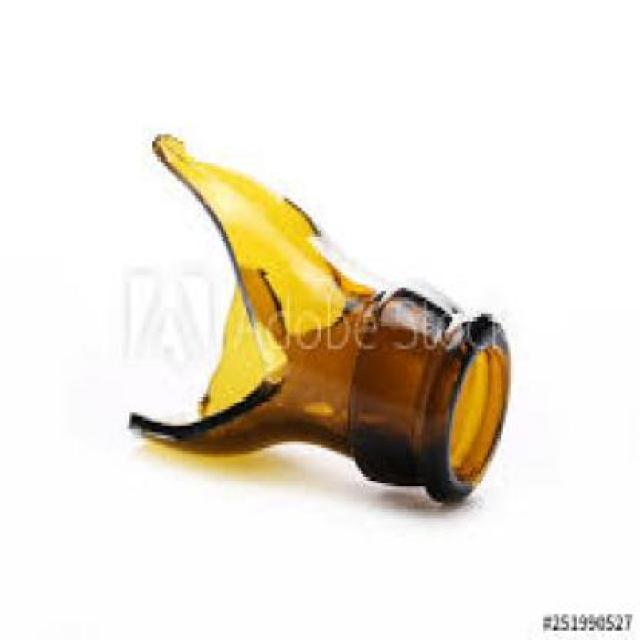kaca: (128, 135, 508, 503)
